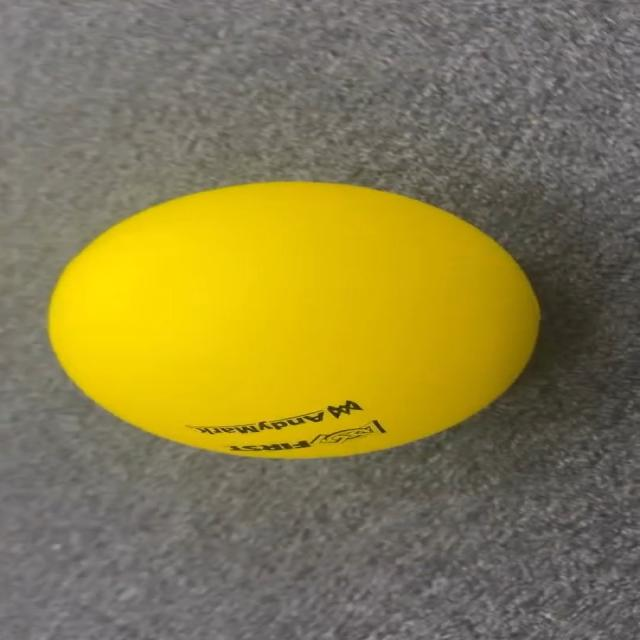Fuels: (49, 185, 538, 453)
